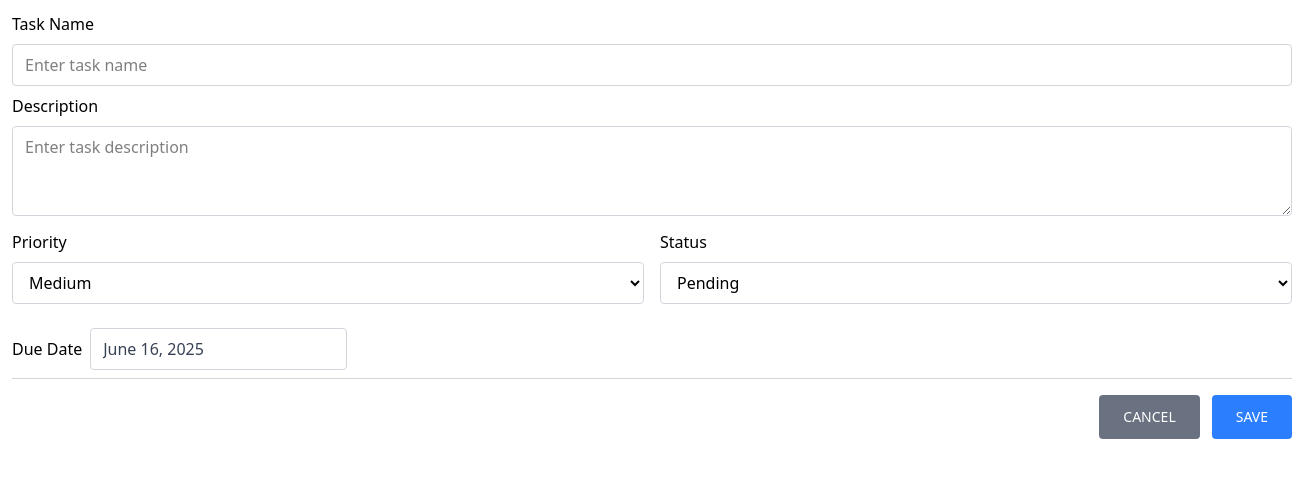
Test: TaskForm › shows error message when task creation fails
Type "New Task" into the field labelled "Task Name" at (652, 65), box [12,44,1292,86]
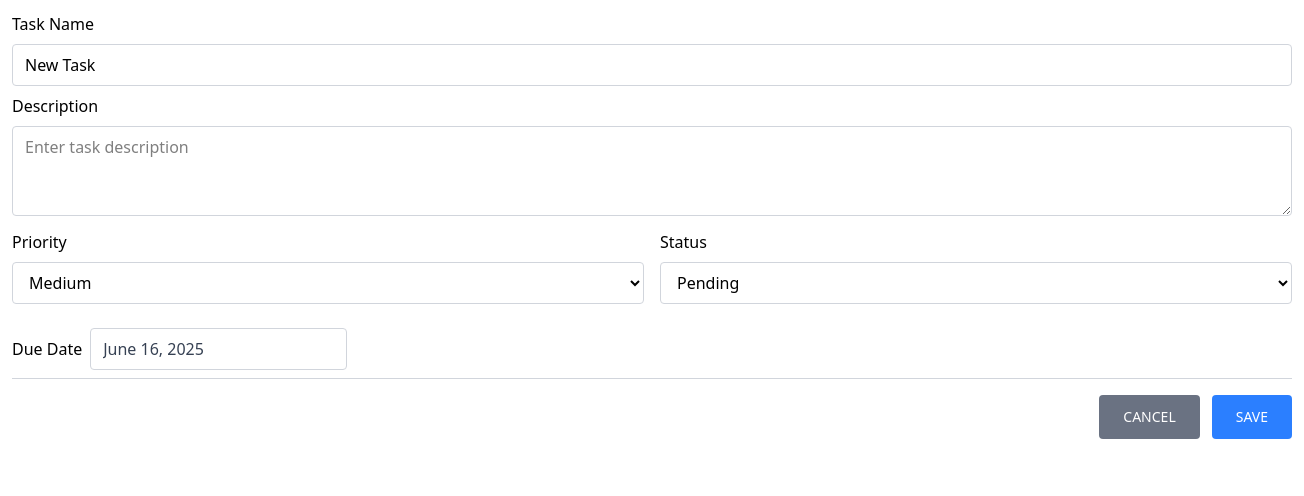
Click the button "Save" at (1252, 417), box [1212,395,1292,439]
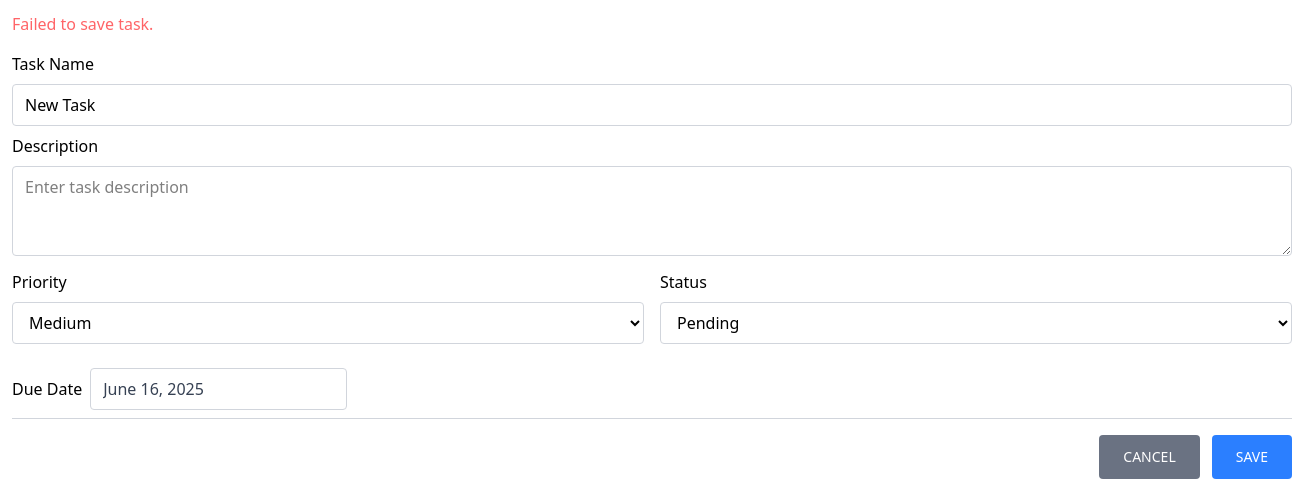
Now the text "Failed to save task." is shown, box [12,13,153,35]
